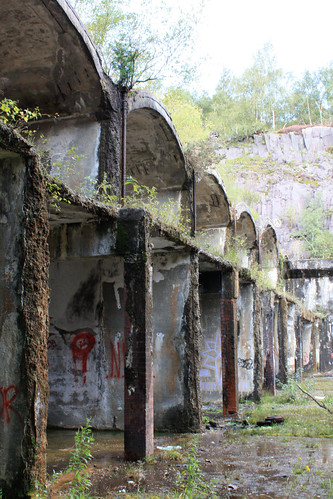building: (1, 27, 315, 464)
vegetation: (144, 51, 333, 138)
